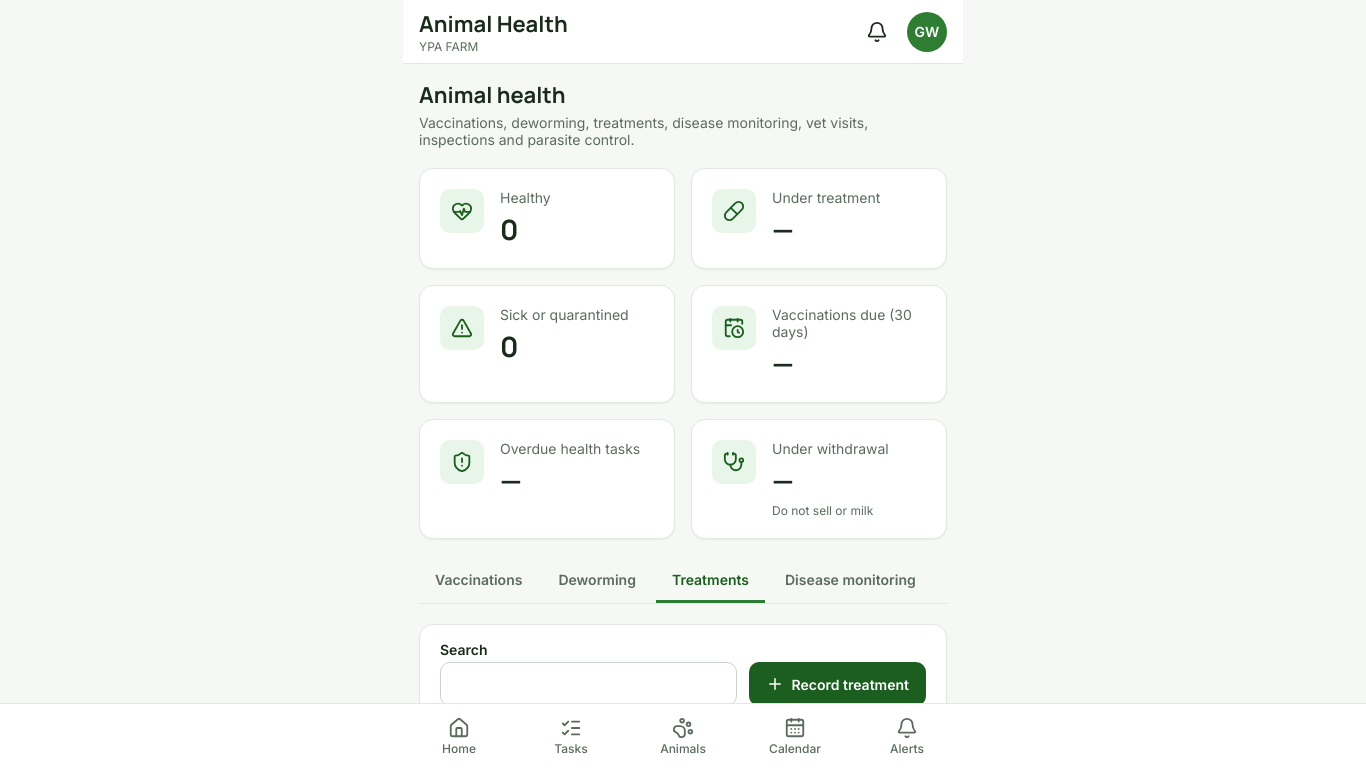
Scenario: animal health › requires the fields the backend requires
Click the button "Record treatment" at (837, 684), box [749,662,926,706]
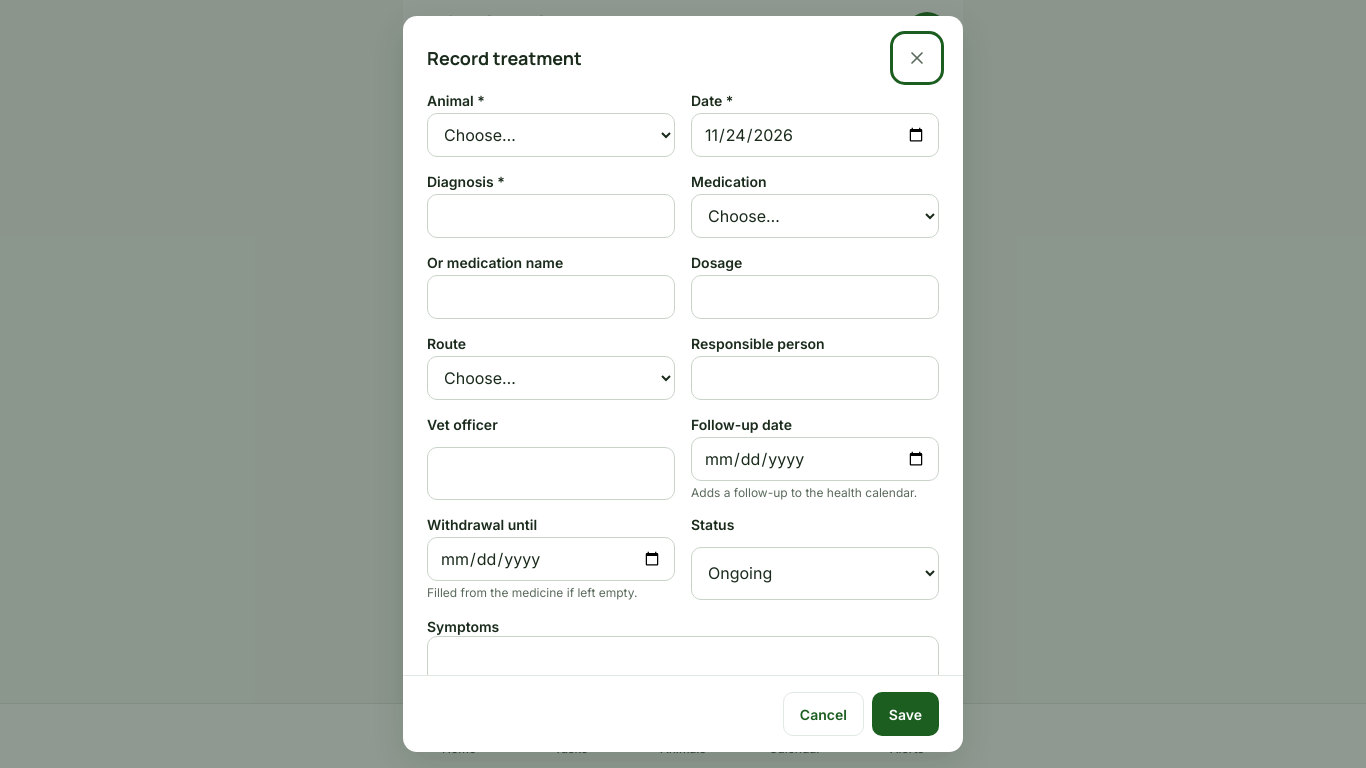
Click the button "Save" at (905, 714), box [872,692,939,736]
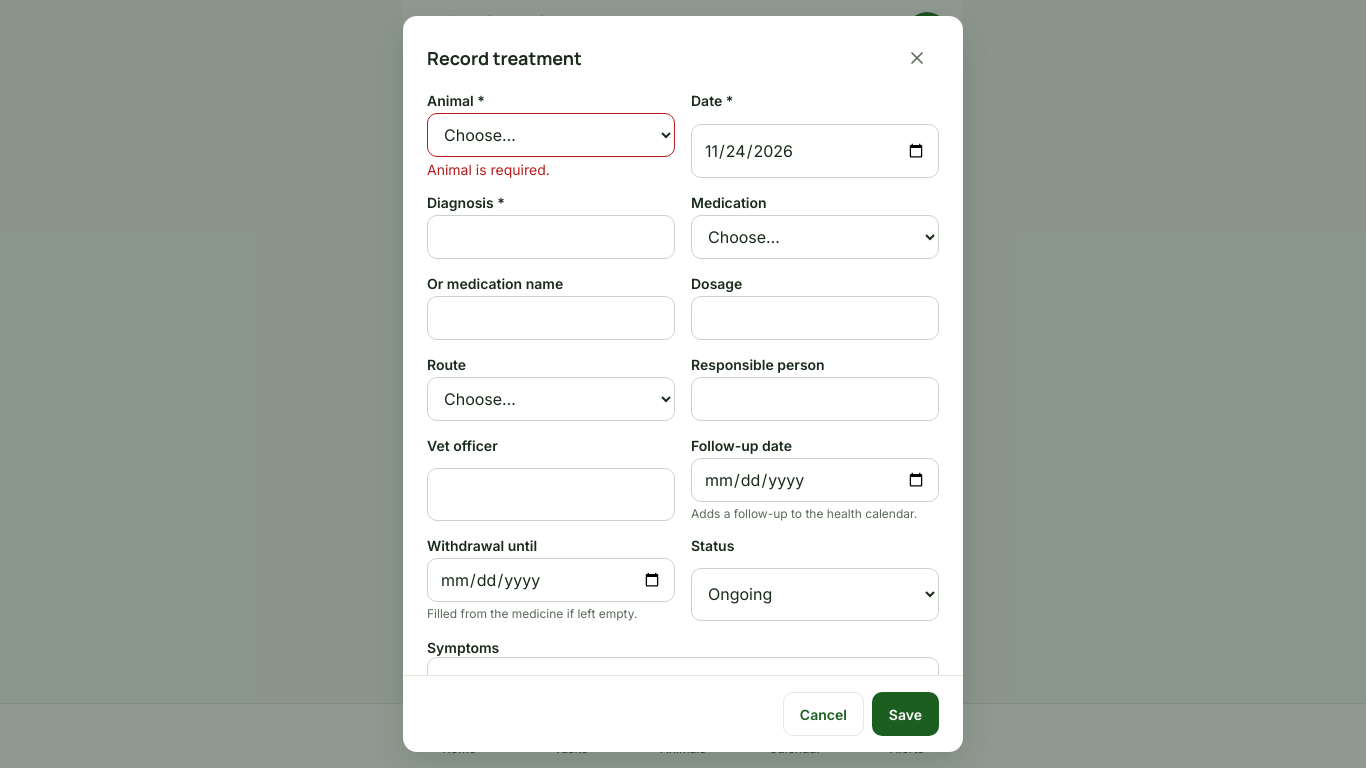
Expected: the text "Animal is required." is shown, [427,161,550,178]
